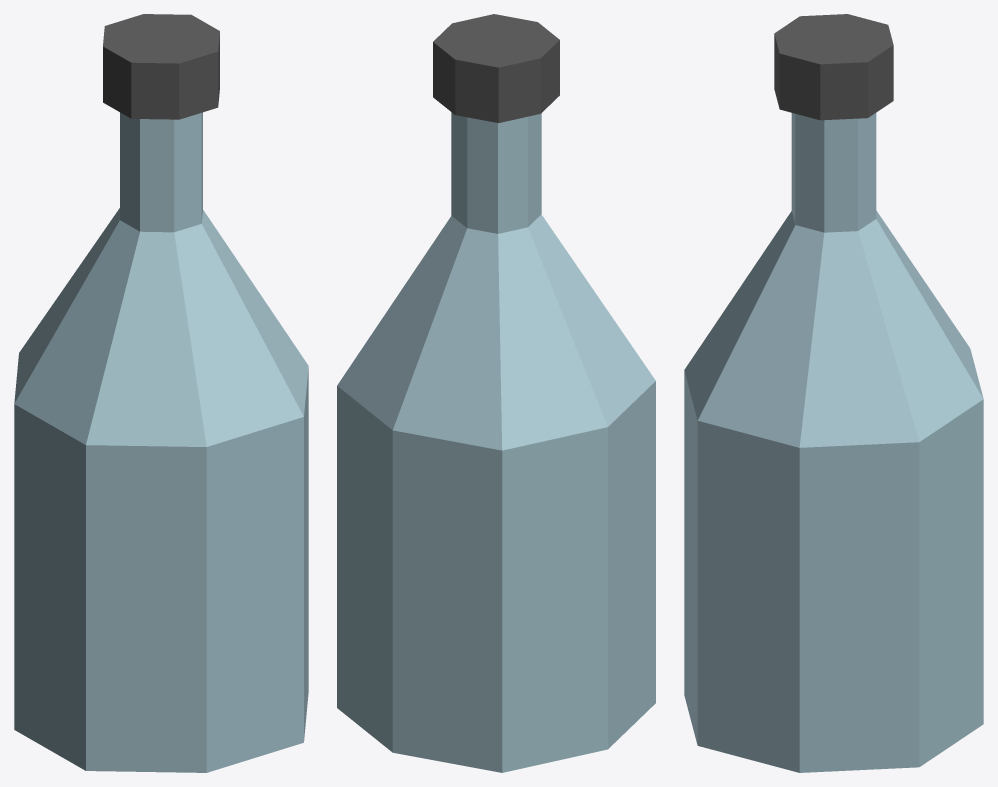
File: Bottle_30.fbx
3 views of the same model, side by side, from view 1: azimuth 30°, elevation 25°; view 2: azimuth 150°, elevation 25°; view 3: azimuth 270°, elevation 25° (orthographic).
Visible parts, largest first — view 1: Bottle_30; view 2: Bottle_30; view 3: Bottle_30.
Part boxes in pixels (left/top/right/bottom): Bottle_30: left=14, top=14, right=308, bottom=772; Bottle_30: left=337, top=14, right=655, bottom=772; Bottle_30: left=684, top=14, right=983, bottom=772.
Bounding box in the file's own units: 17.39 × 17.39 × 42.96.
